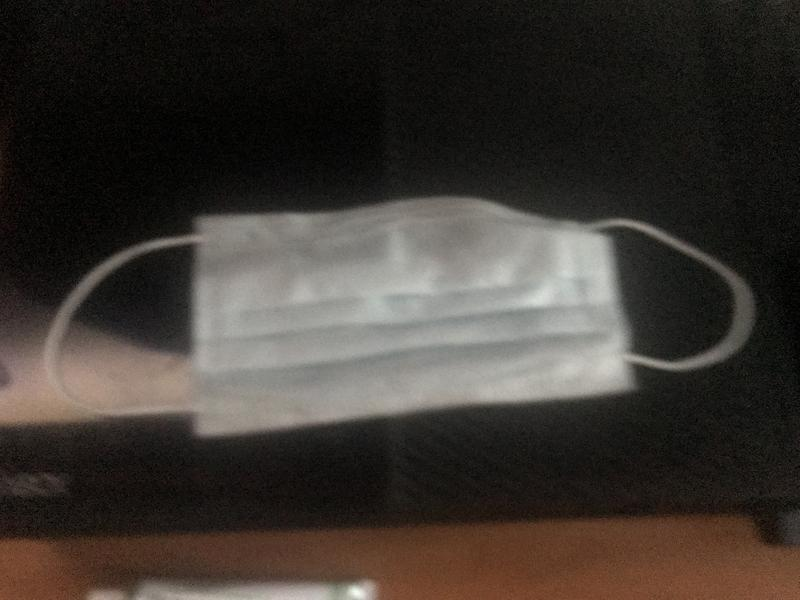medical_mask: (47, 218, 752, 412)
